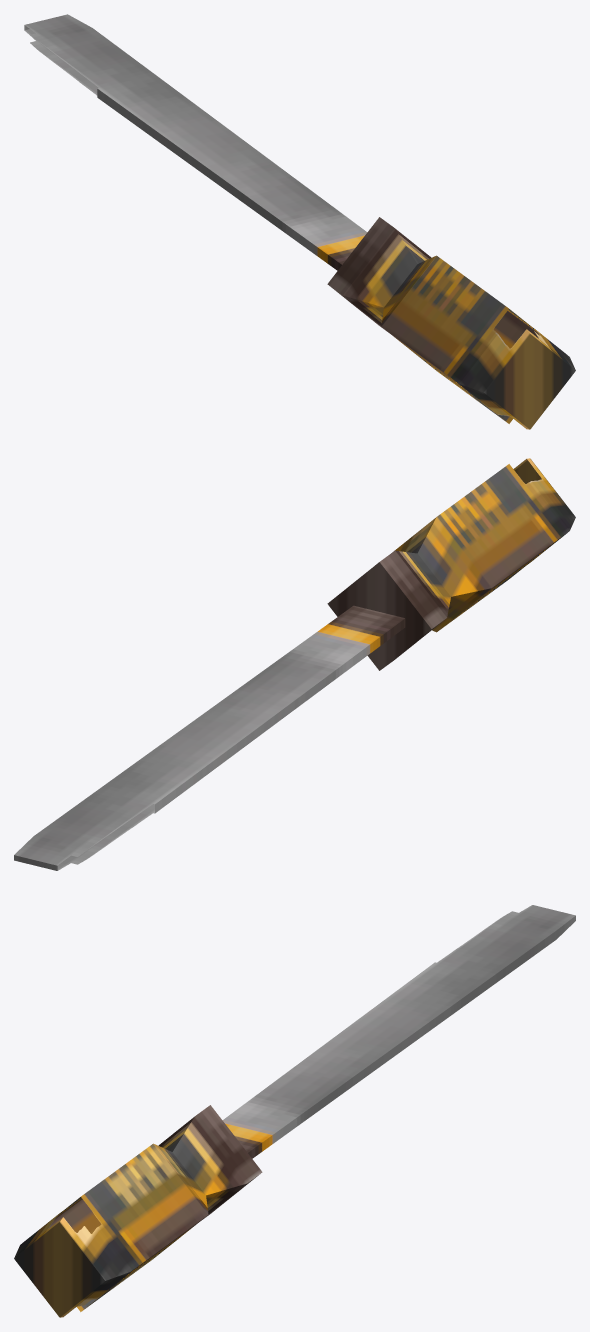
The model's file is metal_file.fbx.
The picture shows the model from 3 angles, top to bottom: view 1: azimuth 30°, elevation 25°; view 2: azimuth 150°, elevation 25°; view 3: azimuth 330°, elevation 25°; orthographic projection.
Visible parts, largest first — view 1: metal_file; view 2: metal_file; view 3: metal_file.
Part boxes in pixels (<box>): metal_file: <box>24,14,575,429</box>; metal_file: <box>14,458,575,870</box>; metal_file: <box>14,905,575,1317</box>.
Size of the model in its own units: 200 by 200 by 1535.
1 material, 1 textured.
